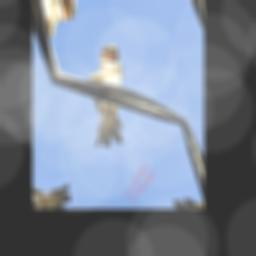Swallow: (59, 36, 159, 162)
